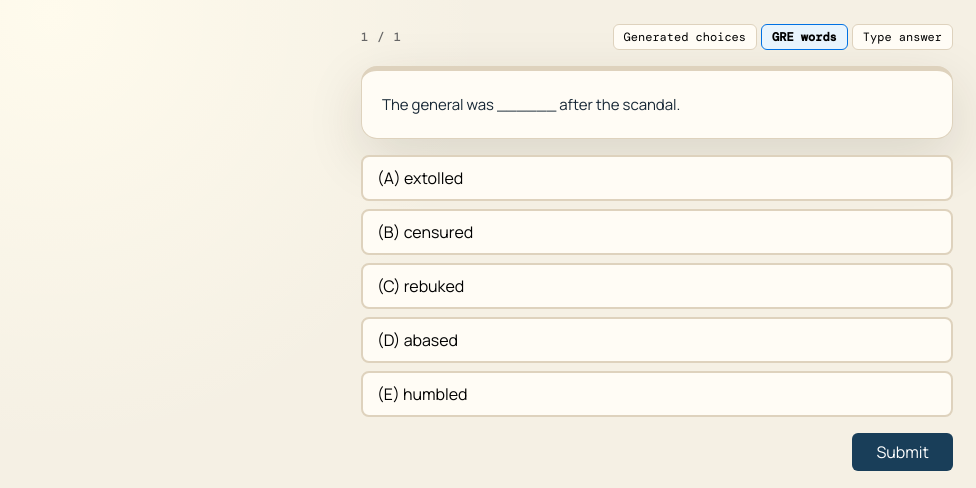
Test: FillInBlank - GRE word distractors › explains a wrong answer with that word own definition
What coordinates should you click on to do the following:
click the button "(A) extolled"
I would click on:
 (434, 178)
Its box is [361,155,953,201].
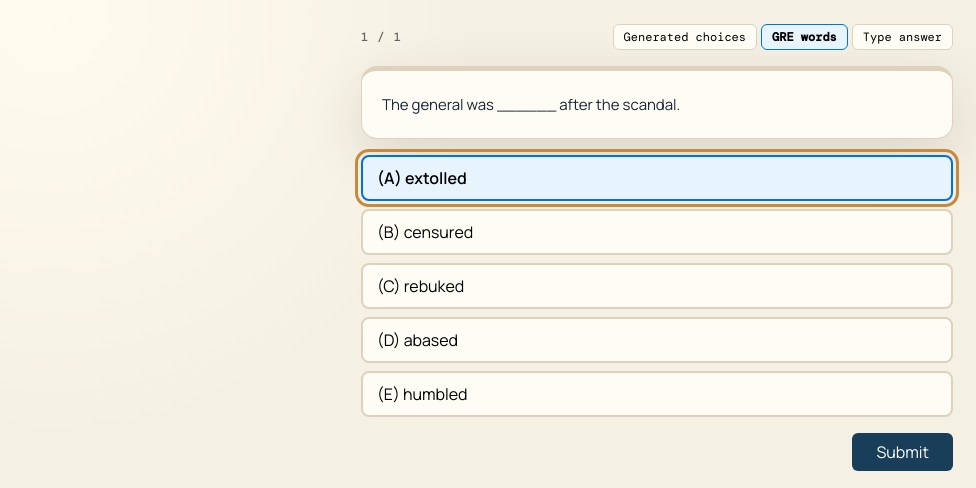
What coordinates should you click on to do the following:
click the button "Submit"
I would click on:
 (903, 452)
Its box is [852,433,953,471].
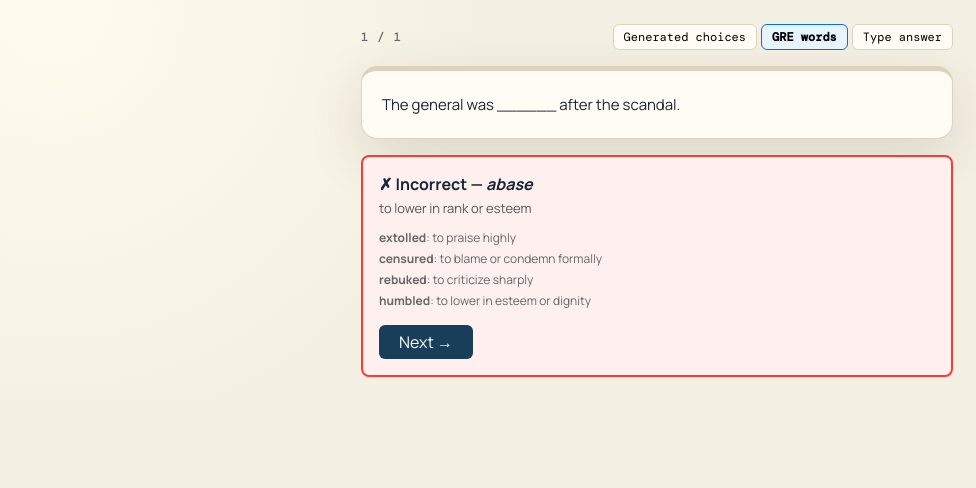
Expected: the text "extolled: to praise highly" is shown, [379,229,516,246]
